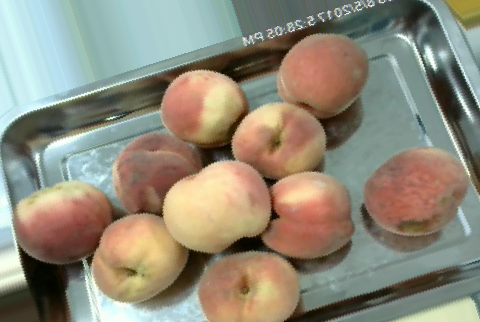Peach: (163, 158, 272, 253), (363, 146, 471, 235), (91, 210, 185, 305), (260, 171, 355, 260), (274, 32, 370, 118), (12, 181, 112, 262), (230, 101, 329, 179), (195, 250, 301, 322), (110, 133, 199, 211), (157, 68, 247, 145)
